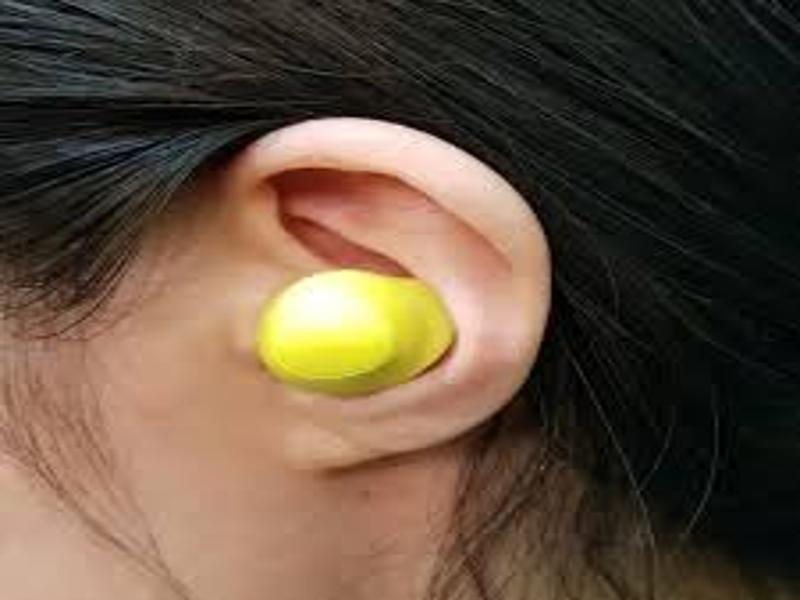headphone: (251, 263, 452, 386)
